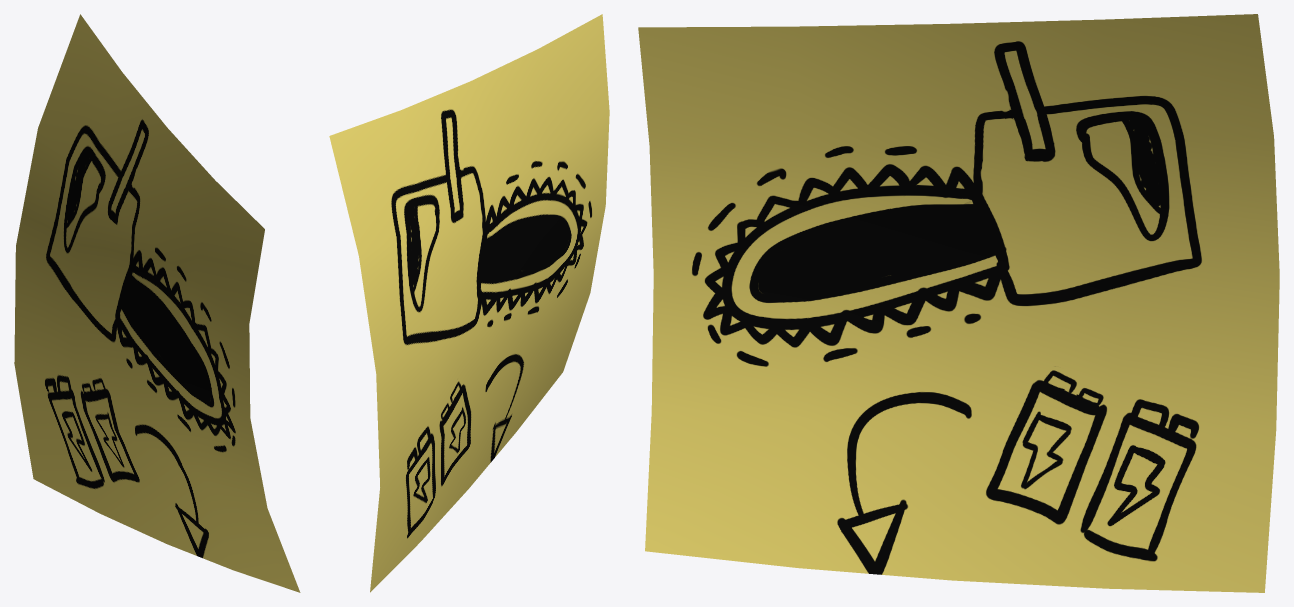
Rendered from PostItColourChainsaw.fbx.
3 views of the same model, side by side, from view 1: azimuth 30°, elevation 25°; view 2: azimuth 150°, elevation 25°; view 3: azimuth 270°, elevation 25° (orthographic). The views are drawn at different scales.
Parts seen in each view (by area): view 1: Cube; view 2: Cube; view 3: Cube.
Boxes of the visible parts, bbox=[...] form: Cube: bbox=[14, 14, 300, 592]; Cube: bbox=[329, 14, 609, 592]; Cube: bbox=[638, 14, 1279, 592].
Bounding box in the file's own units: 147 × 1070 × 1024.
